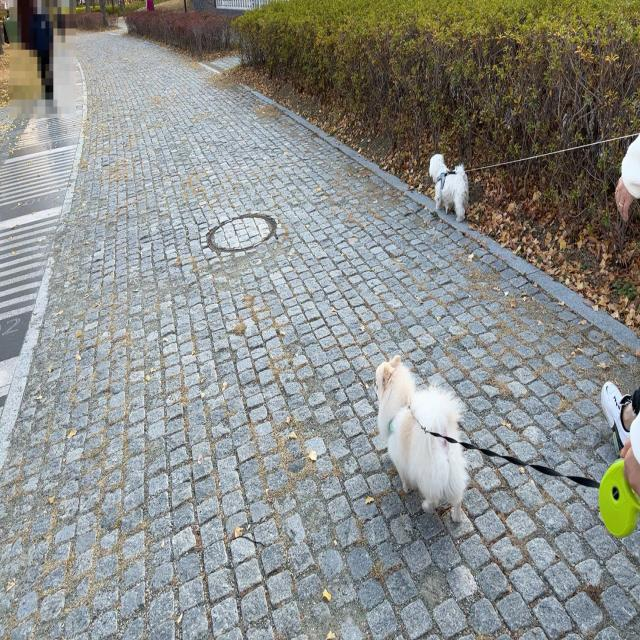Dog: (373, 352, 470, 526), (429, 152, 469, 223)
